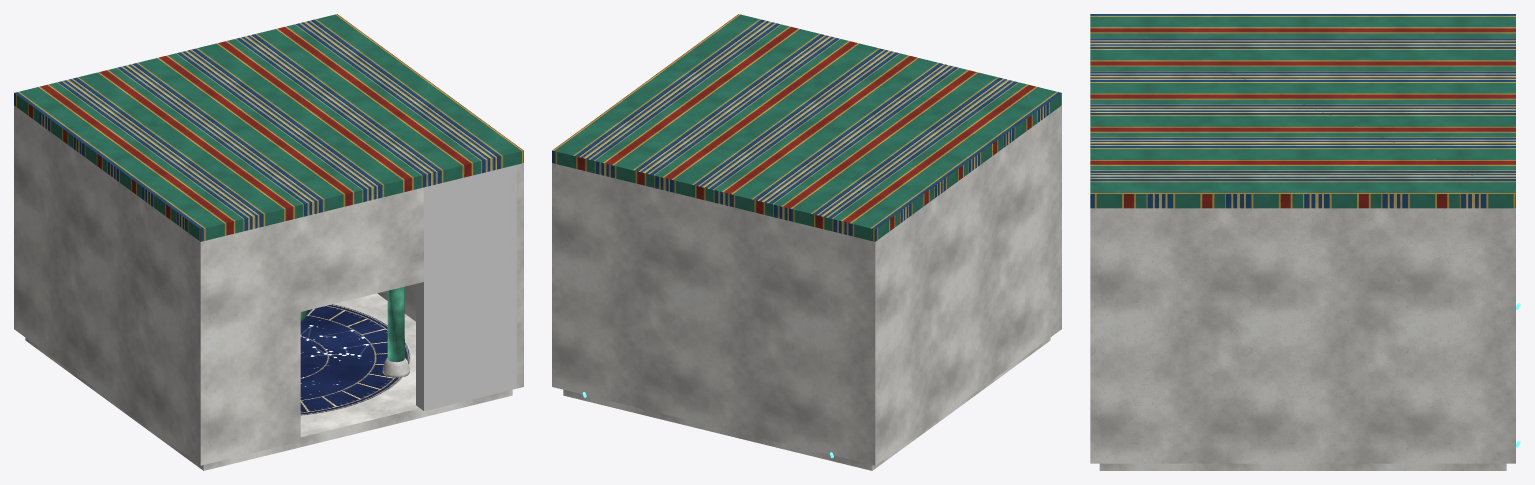
Rendered from celestial_pavilion.glb.
3 renders of one model, left to right at view 1: azimuth 30°, elevation 25°; view 2: azimuth 150°, elevation 25°; view 3: azimuth 270°, elevation 25°, orthographic. The views are drawn at different scales.
Parts seen in each view (by area): view 1: Walls, Ceiling, ShellFront-convcolonly.001, StarFloor, Floor, Columns; view 2: Walls, Ceiling, Floor; view 3: Walls, Ceiling, Floor.
Boxes of the visible parts, <box> form: Walls: <box>14,105,523,465</box>; Ceiling: <box>14,14,523,241</box>; ShellFront-convcolonly.001: <box>416,165,516,411</box>; StarFloor: <box>300,304,411,415</box>; Floor: <box>25,293,512,470</box>; Columns: <box>387,286,404,362</box>; Walls: <box>552,105,1061,465</box>; Ceiling: <box>552,14,1061,241</box>; Floor: <box>563,337,1050,470</box>; Walls: <box>1090,208,1515,463</box>; Ceiling: <box>1090,14,1515,208</box>; Floor: <box>1099,463,1506,470</box>.
Size of what is drawn, in the model's own units: 6.8 by 5.03 by 6.87.
Materials: 7 (5 with a texture image).
